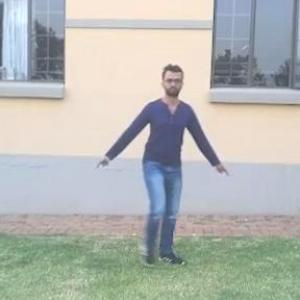land: (102, 72, 229, 248)
